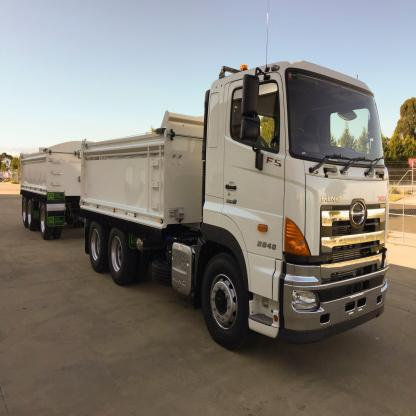dump_truck: (19, 54, 391, 358)
